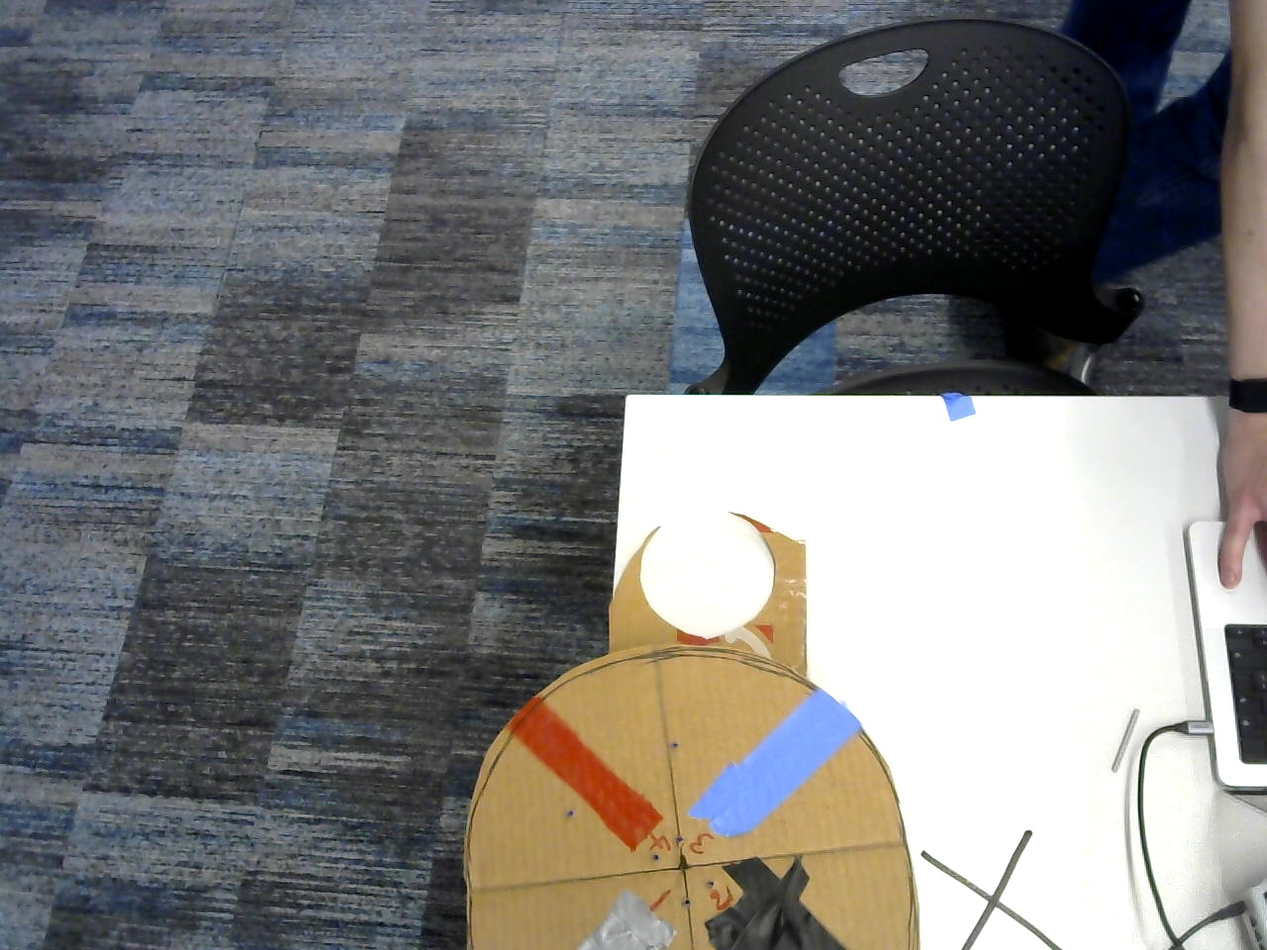black: (706, 857, 879, 950)
blue: (689, 690, 861, 838)
red: (509, 699, 665, 851)
silver: (508, 890, 684, 950)
x: (929, 831, 1050, 950)
